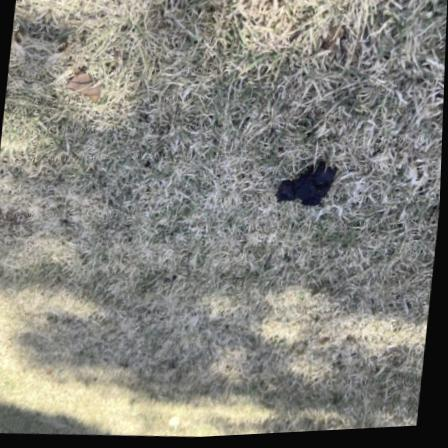dog-poop: (273, 155, 344, 213)
